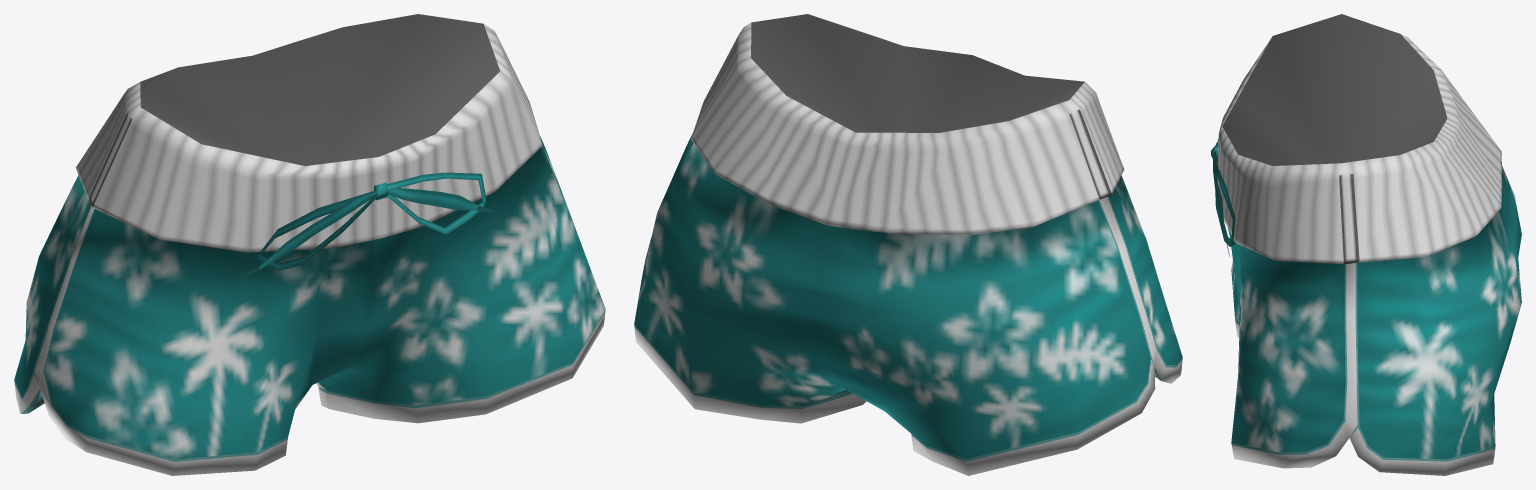
File: shorts1.glb
3 renders of one model, left to right at view 1: azimuth 30°, elevation 25°; view 2: azimuth 150°, elevation 25°; view 3: azimuth 270°, elevation 25°, orthographic. The views are drawn at different scales.
Visible parts, largest first — view 1: node_id86; view 2: node_id86; view 3: node_id86.
Boxes of the visible parts, <box> form: node_id86: <box>14,14,605,475</box>; node_id86: <box>634,14,1182,475</box>; node_id86: <box>1211,14,1521,475</box>.
Bounding box in the file's own units: 0.4696 × 0.2994 × 0.2595.
Materials: 1 (1 with a texture image).
